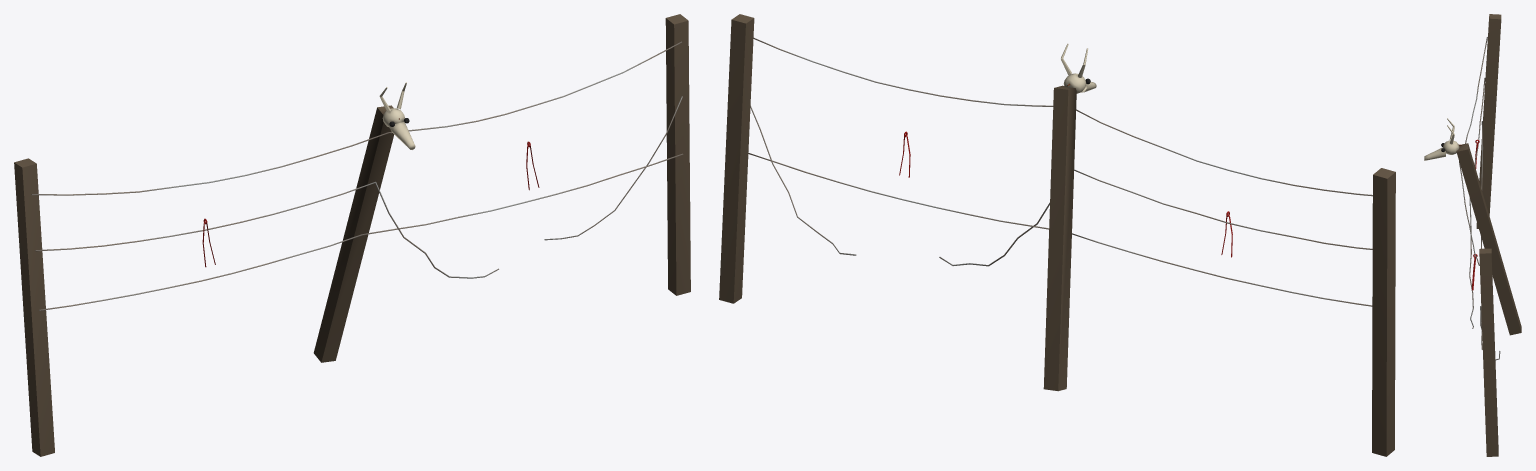
Rendered from pike_fence_folk.glb.
3 renders of one model, left to right at view 1: azimuth 30°, elevation 25°; view 2: azimuth 150°, elevation 25°; view 3: azimuth 270°, elevation 25°, orthographic. The views are drawn at different scales.
Parts seen in each view (by area): view 1: pike_fence_folk_posts_LOD0, pike_fence_folk_wire_LOD0, pike_fence_folk_folk_LOD0; view 2: pike_fence_folk_posts_LOD0, pike_fence_folk_wire_LOD0, pike_fence_folk_folk_LOD0; view 3: pike_fence_folk_posts_LOD0, pike_fence_folk_wire_LOD0, pike_fence_folk_folk_LOD0.
Part boxes in pixels (x1,y1,x2,y2): pike_fence_folk_posts_LOD0: (14, 14, 690, 456); pike_fence_folk_wire_LOD0: (31, 41, 683, 310); pike_fence_folk_folk_LOD0: (202, 82, 539, 267); pike_fence_folk_posts_LOD0: (719, 14, 1395, 456); pike_fence_folk_wire_LOD0: (748, 38, 1372, 306); pike_fence_folk_folk_LOD0: (899, 43, 1232, 257); pike_fence_folk_posts_LOD0: (1456, 14, 1521, 456); pike_fence_folk_wire_LOD0: (1459, 37, 1500, 360); pike_fence_folk_folk_LOD0: (1424, 118, 1479, 290).
Size of what is drawn, in the model's own units: 4.14 by 1.82 by 0.7223.
